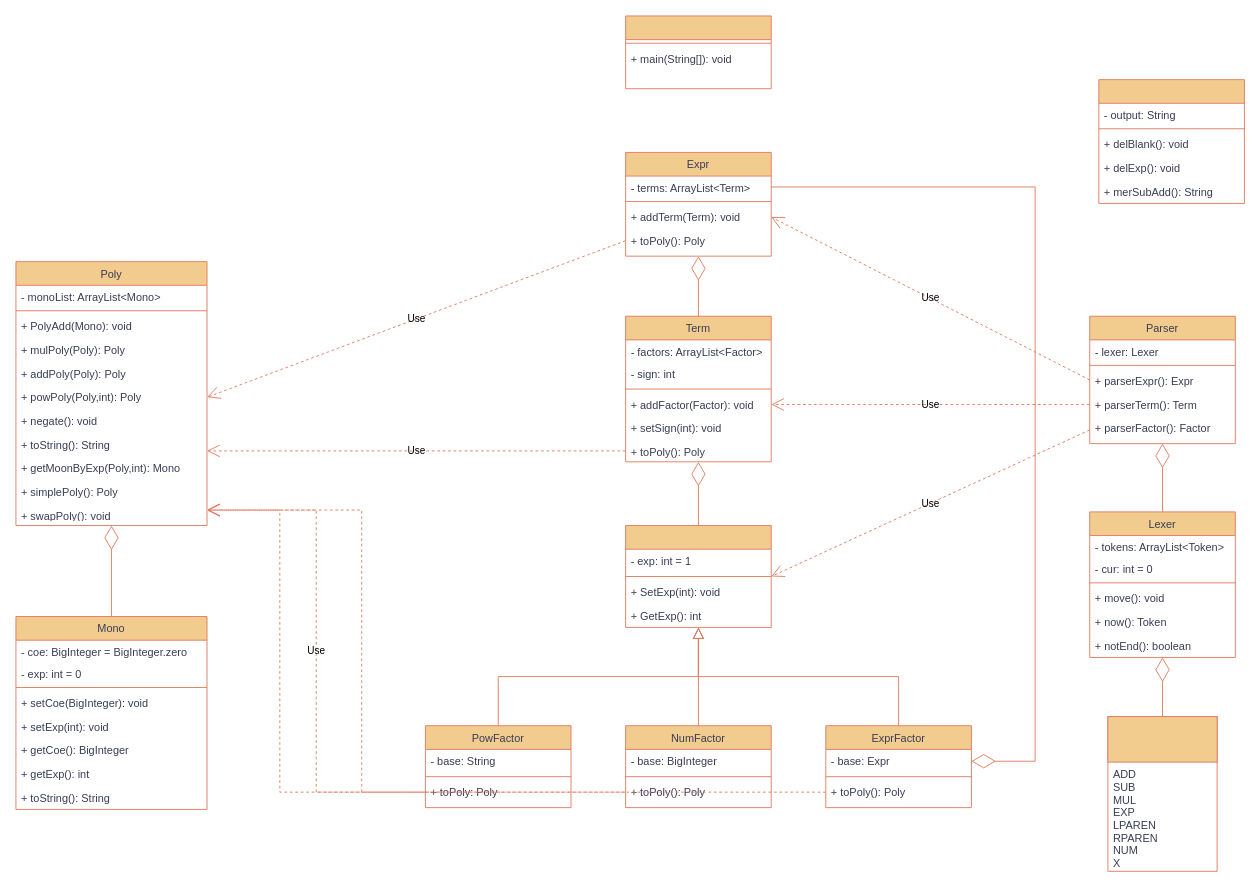
Some shapes in this 1260 by 890 pixel diagram are drawn without their labels. Here are the shapes that lost their labels. From the top down, the box of each, then its label:
(625, 15, 771, 89): MainClass
(1098, 79, 1244, 203): PreTreat
(625, 525, 771, 627): Factror
(1107, 716, 1217, 762): «enumeration» Token
